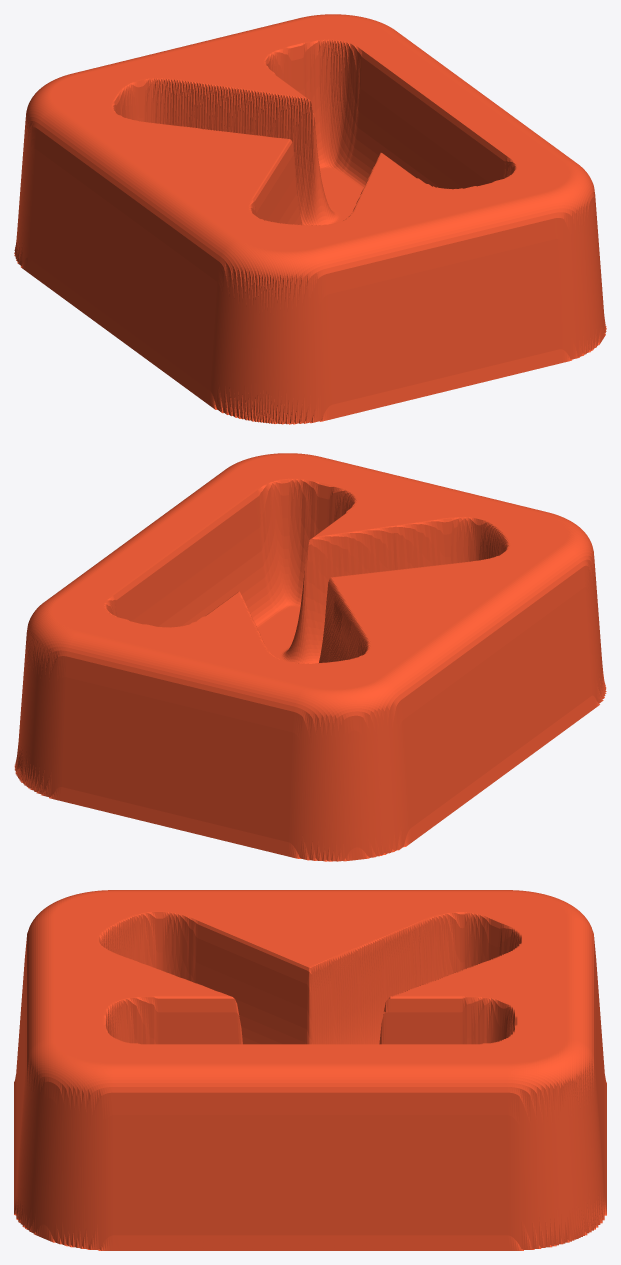
Rendered from mold.glb.
3 views of the same model, one above another, from view 1: azimuth 30°, elevation 25°; view 2: azimuth 150°, elevation 25°; view 3: azimuth 270°, elevation 25° (orthographic). The views are drawn at different scales.
Parts seen in each view (by area): view 1: geometry_0; view 2: geometry_0; view 3: geometry_0.
Boxes of the visible parts, x1,y1,x2,y2 form: geometry_0: (14, 14, 606, 424); geometry_0: (14, 453, 606, 861); geometry_0: (14, 890, 606, 1250).
Bounding box in the file's own units: 0.0442 × 0.0172 × 0.0542.
